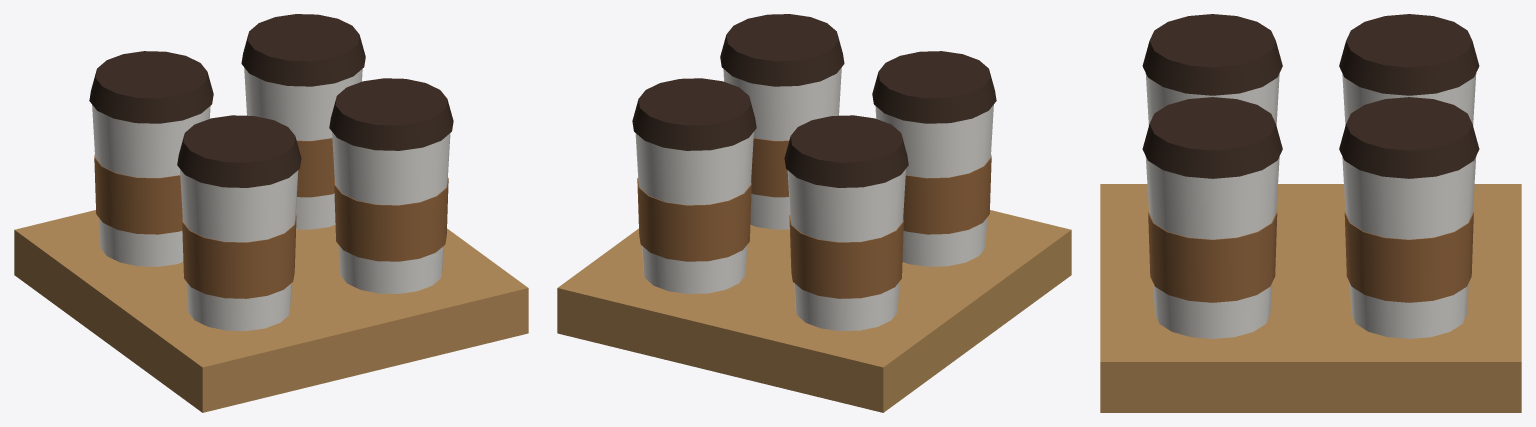
Rendered from coffee.glb.
3 views of the same model, side by side, from view 1: azimuth 30°, elevation 25°; view 2: azimuth 150°, elevation 25°; view 3: azimuth 270°, elevation 25° (orthographic). The views are drawn at different scales.
Visible parts, largest first — view 1: Coffee; view 2: Coffee; view 3: Coffee.
Part boxes in pixels (x1,y1,x2,y2): Coffee: (14,14,528,412); Coffee: (557,14,1071,412); Coffee: (1100,14,1521,412).
Bounding box in the file's own units: 0.3 × 0.19 × 0.3.
